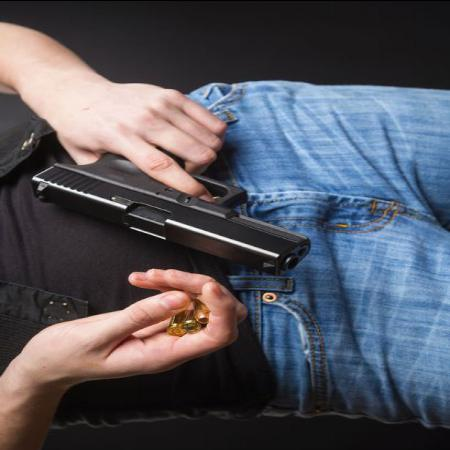Pistol: (26, 120, 322, 274)
